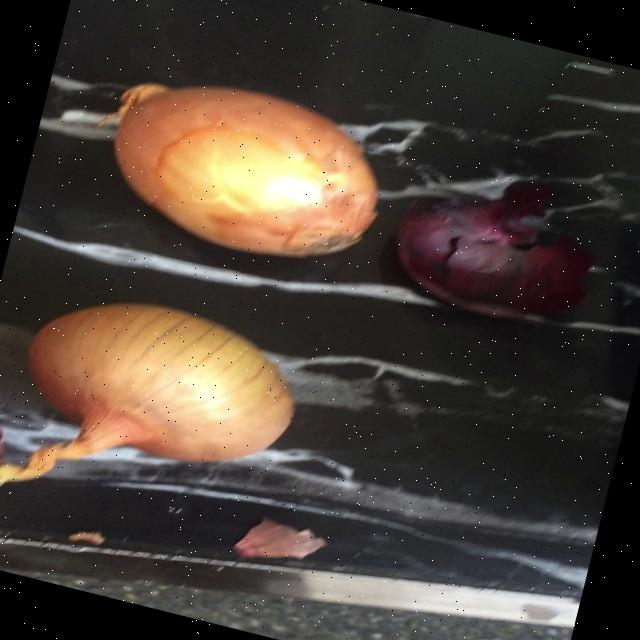Onion: (0, 303, 292, 484), (113, 82, 376, 257)
